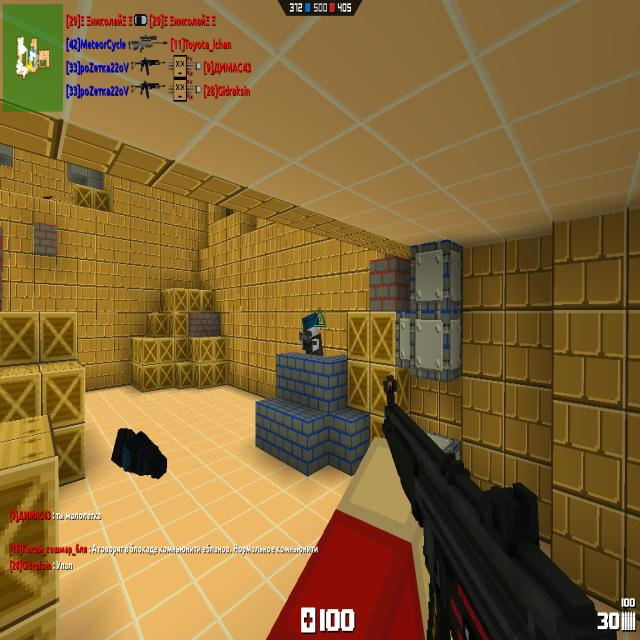enemy: (298, 313, 324, 357)
